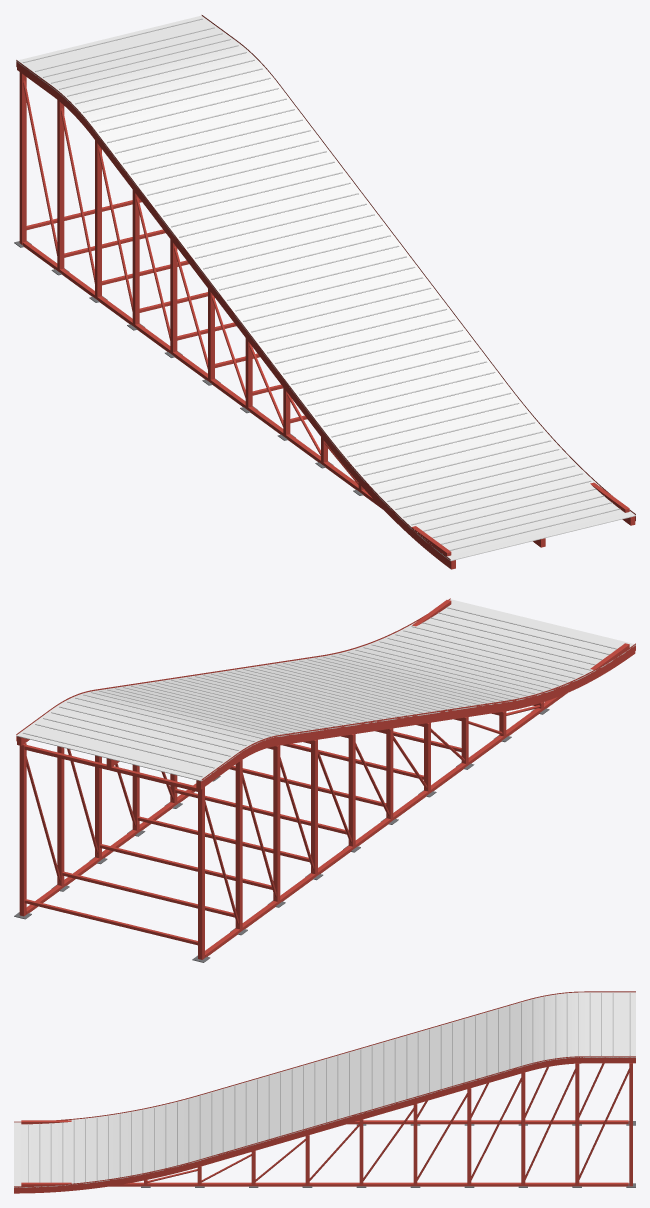
The model's file is landing_huge.glb.
3 renders of one model, top to bottom at view 1: azimuth 30°, elevation 25°; view 2: azimuth 150°, elevation 25°; view 3: azimuth 270°, elevation 25°, orthographic. The views are drawn at different scales.
Parts seen in each view (by area): view 1: SM_landing_huge; view 2: SM_landing_huge; view 3: SM_landing_huge.
Boxes of the visible parts, bbox=[...] form: SM_landing_huge: bbox=[14, 15, 635, 569]; SM_landing_huge: bbox=[14, 598, 635, 962]; SM_landing_huge: bbox=[14, 991, 635, 1193].
Bounding box in the file's own units: 3.28 × 3.17 × 13.
